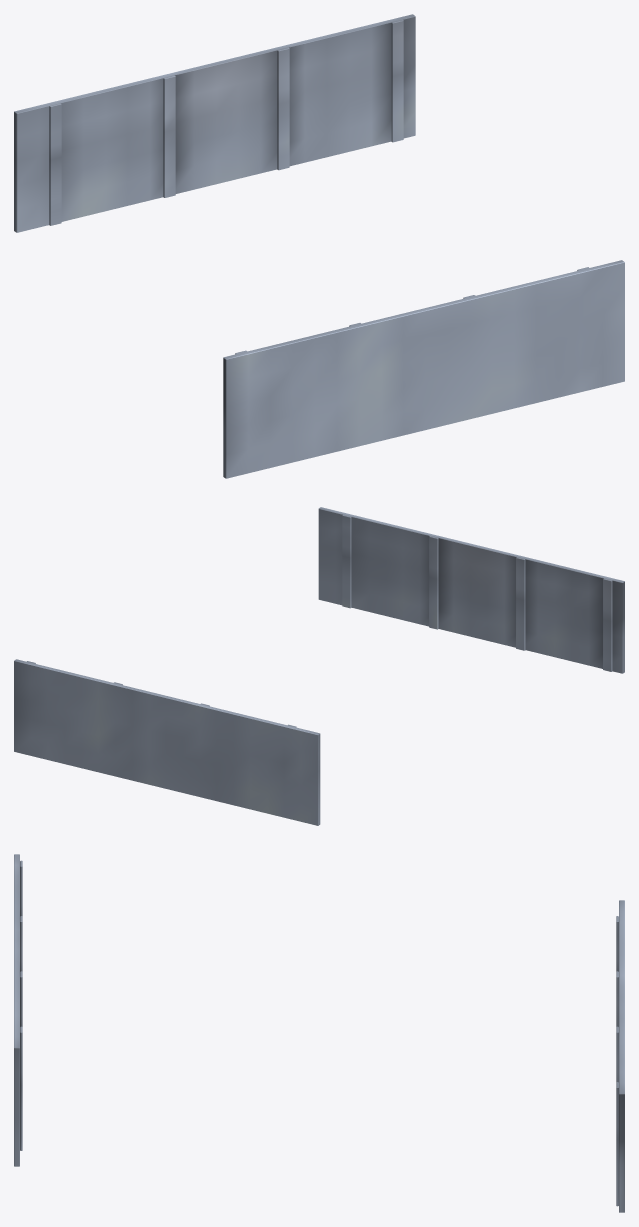
Rendered from pithead_blast_dark.glb.
The picture shows the model from 3 angles, top to bottom: view 1: azimuth 30°, elevation 25°; view 2: azimuth 150°, elevation 25°; view 3: azimuth 270°, elevation 25°; orthographic projection. The views are drawn at different scales.
Visible parts, largest first — view 1: blast_dark; view 2: blast_dark; view 3: blast_dark.
Part boxes in pixels (<box>): blast_dark: <box>14,14,624,478</box>; blast_dark: <box>14,507,624,825</box>; blast_dark: <box>14,854,624,1212</box>.
Size of the model in its own units: 26 by 6 by 28.
